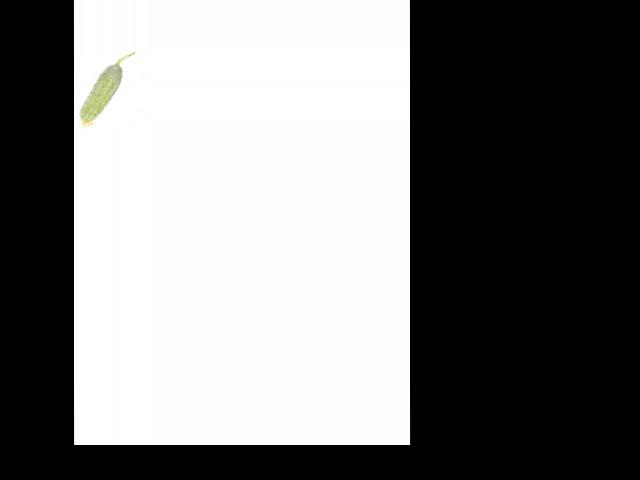cucumber: (78, 52, 134, 128)
